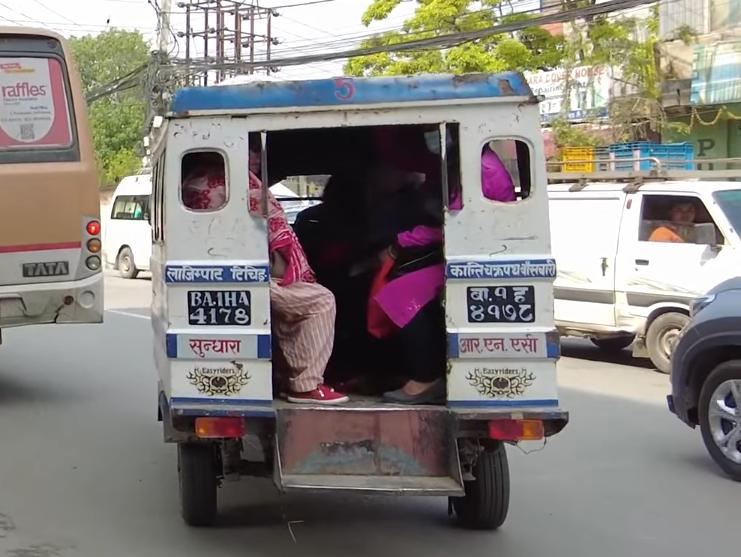bus: (0, 18, 110, 353)
micro_bus: (105, 169, 299, 273)
tempo: (134, 57, 577, 541)
van: (526, 154, 741, 359)
